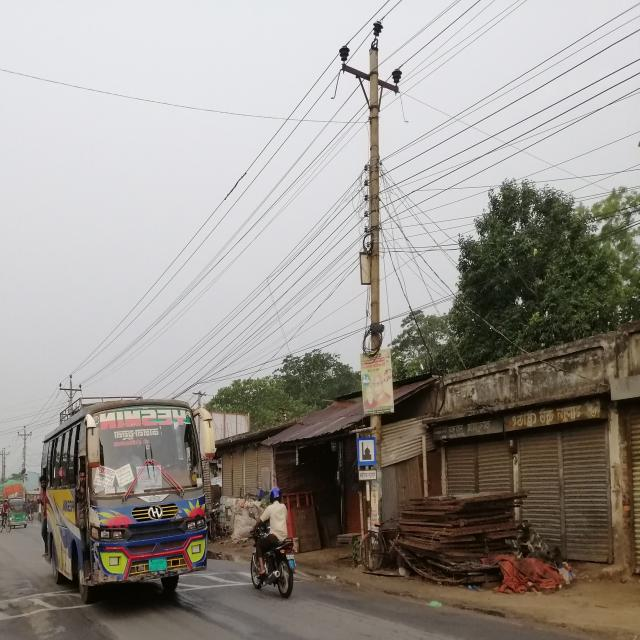Bus: (38, 381, 227, 606)
Motorbike: (243, 527, 300, 602)
